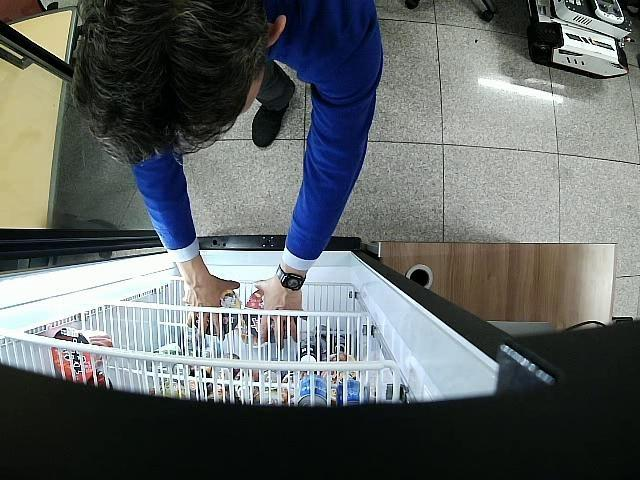07_buldak_L: (243, 288, 287, 342), (194, 288, 240, 336)
